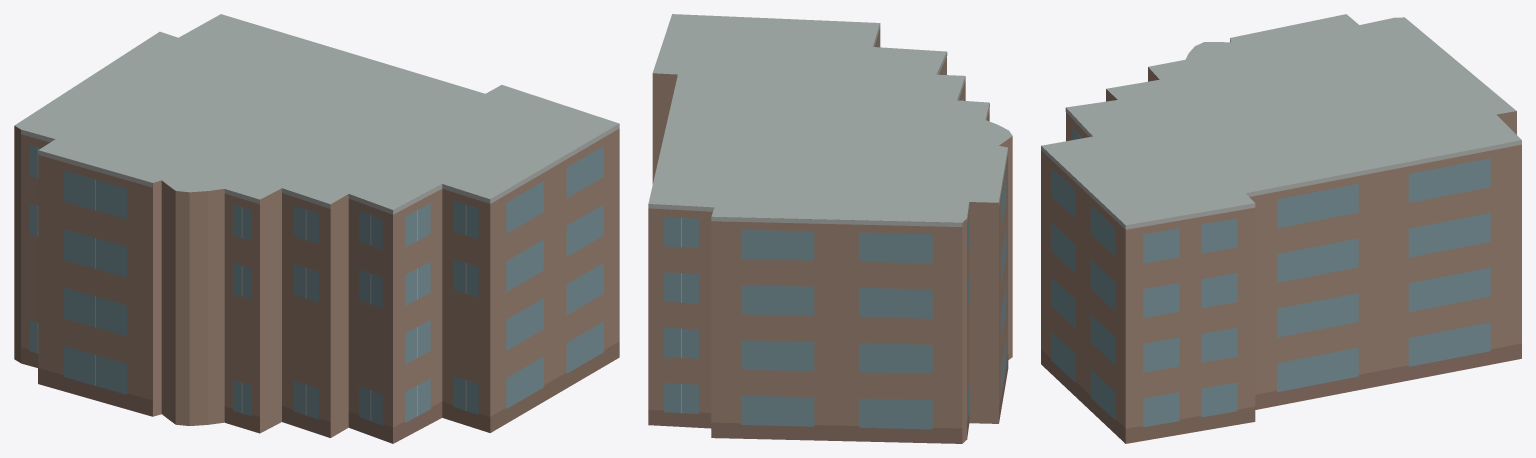
Rendered from survey-upis-32774227.glb.
The picture shows the model from 3 angles, left to right: view 1: azimuth 30°, elevation 25°; view 2: azimuth 150°, elevation 25°; view 3: azimuth 270°, elevation 25°; orthographic projection. The views are drawn at different scales.
Visible parts, largest first — view 1: survey-upis-32774227.tmp; view 2: survey-upis-32774227.tmp; view 3: survey-upis-32774227.tmp.
Part boxes in pixels (box(x1,y1,x2,y2)): survey-upis-32774227.tmp: box(14, 14, 619, 443); survey-upis-32774227.tmp: box(648, 14, 1012, 443); survey-upis-32774227.tmp: box(1041, 14, 1521, 443).
Size of the model in its own units: 25.1 by 12.1 by 24.13.
